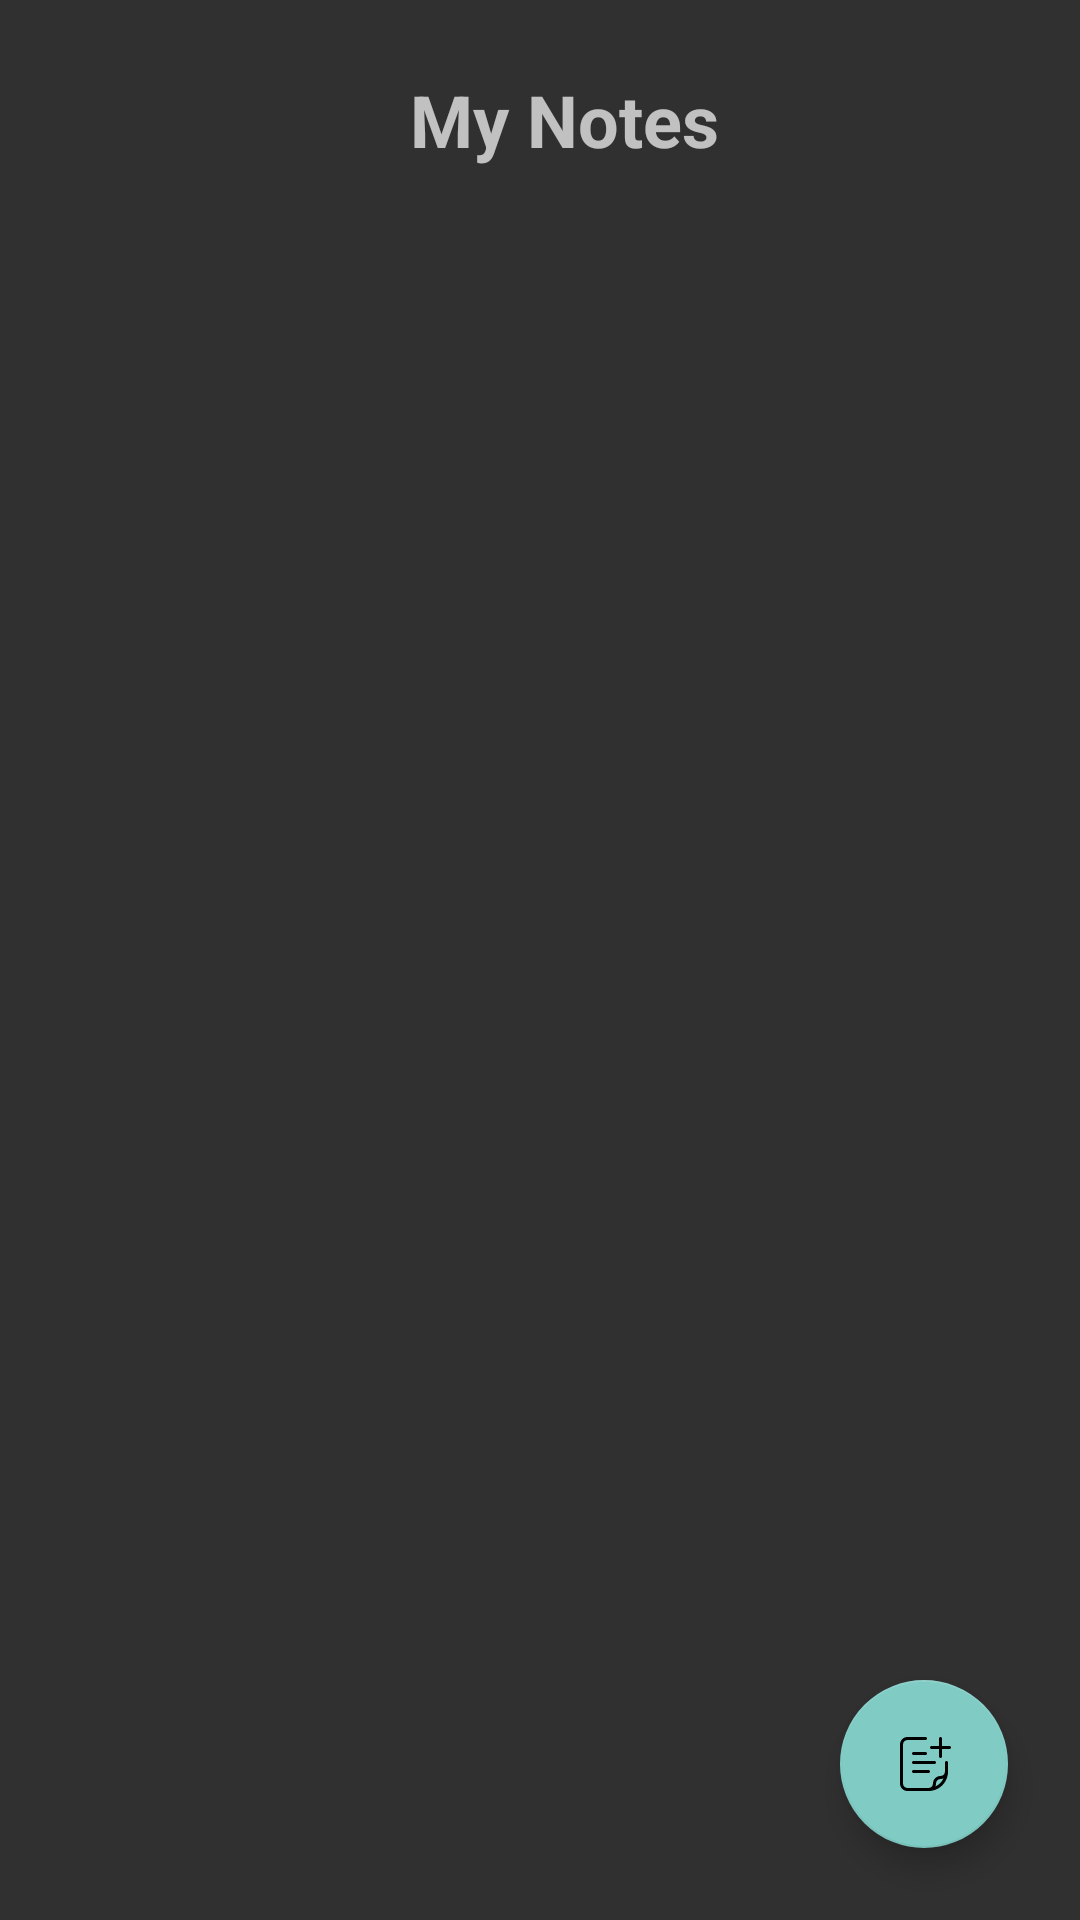

Named icons in this screenshot (1080×1920) and their bounding boxes, region(x1, y1, x2, y2):
add class note: region(840, 1680, 1008, 1848)
